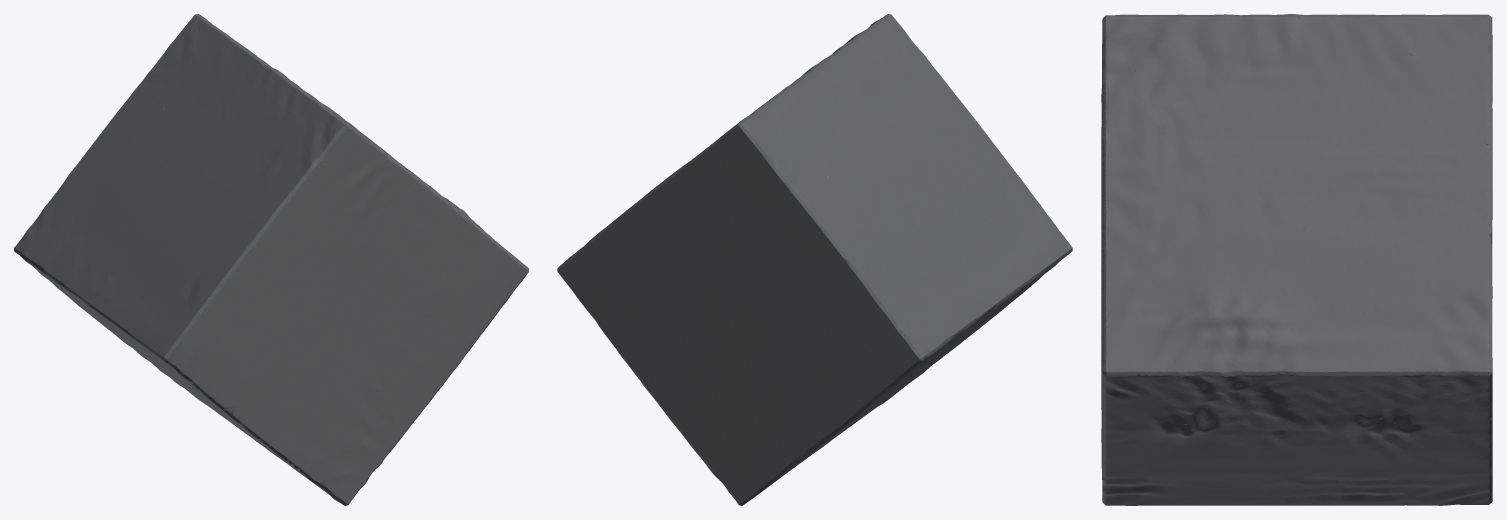
File: EPX-FOS-CONBEXTRAEP10.glb
3 views of the same model, side by side, from view 1: azimuth 30°, elevation 25°; view 2: azimuth 150°, elevation 25°; view 3: azimuth 270°, elevation 25° (orthographic). The views are drawn at different scales.
Parts seen in each view (by area): view 1: mesh_node; view 2: mesh_node; view 3: mesh_node.
Boxes of the visible parts, x1=… form: mesh_node: x1=14, y1=14, x2=528, y2=505; mesh_node: x1=557, y1=14, x2=1072, y2=505; mesh_node: x1=1101, y1=14, x2=1492, y2=505.
Bounding box in the file's own units: 0.175 × 0.175 × 0.1266.
1 material, 1 textured.
